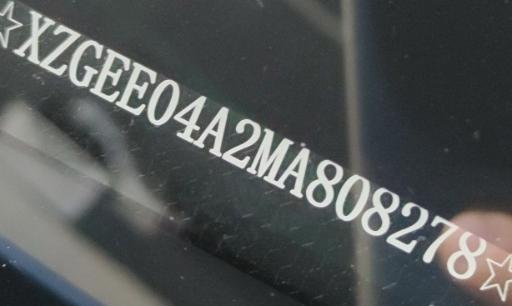letter: (247, 128, 291, 180), (15, 8, 57, 61), (92, 48, 132, 101), (387, 200, 429, 249), (118, 62, 158, 113), (40, 25, 80, 75), (446, 230, 486, 276), (360, 186, 400, 231), (224, 118, 260, 166), (275, 147, 311, 195), (195, 104, 229, 154), (306, 158, 342, 205), (68, 39, 104, 86), (422, 215, 458, 260), (146, 78, 180, 125), (176, 93, 208, 141), (336, 173, 370, 218)
